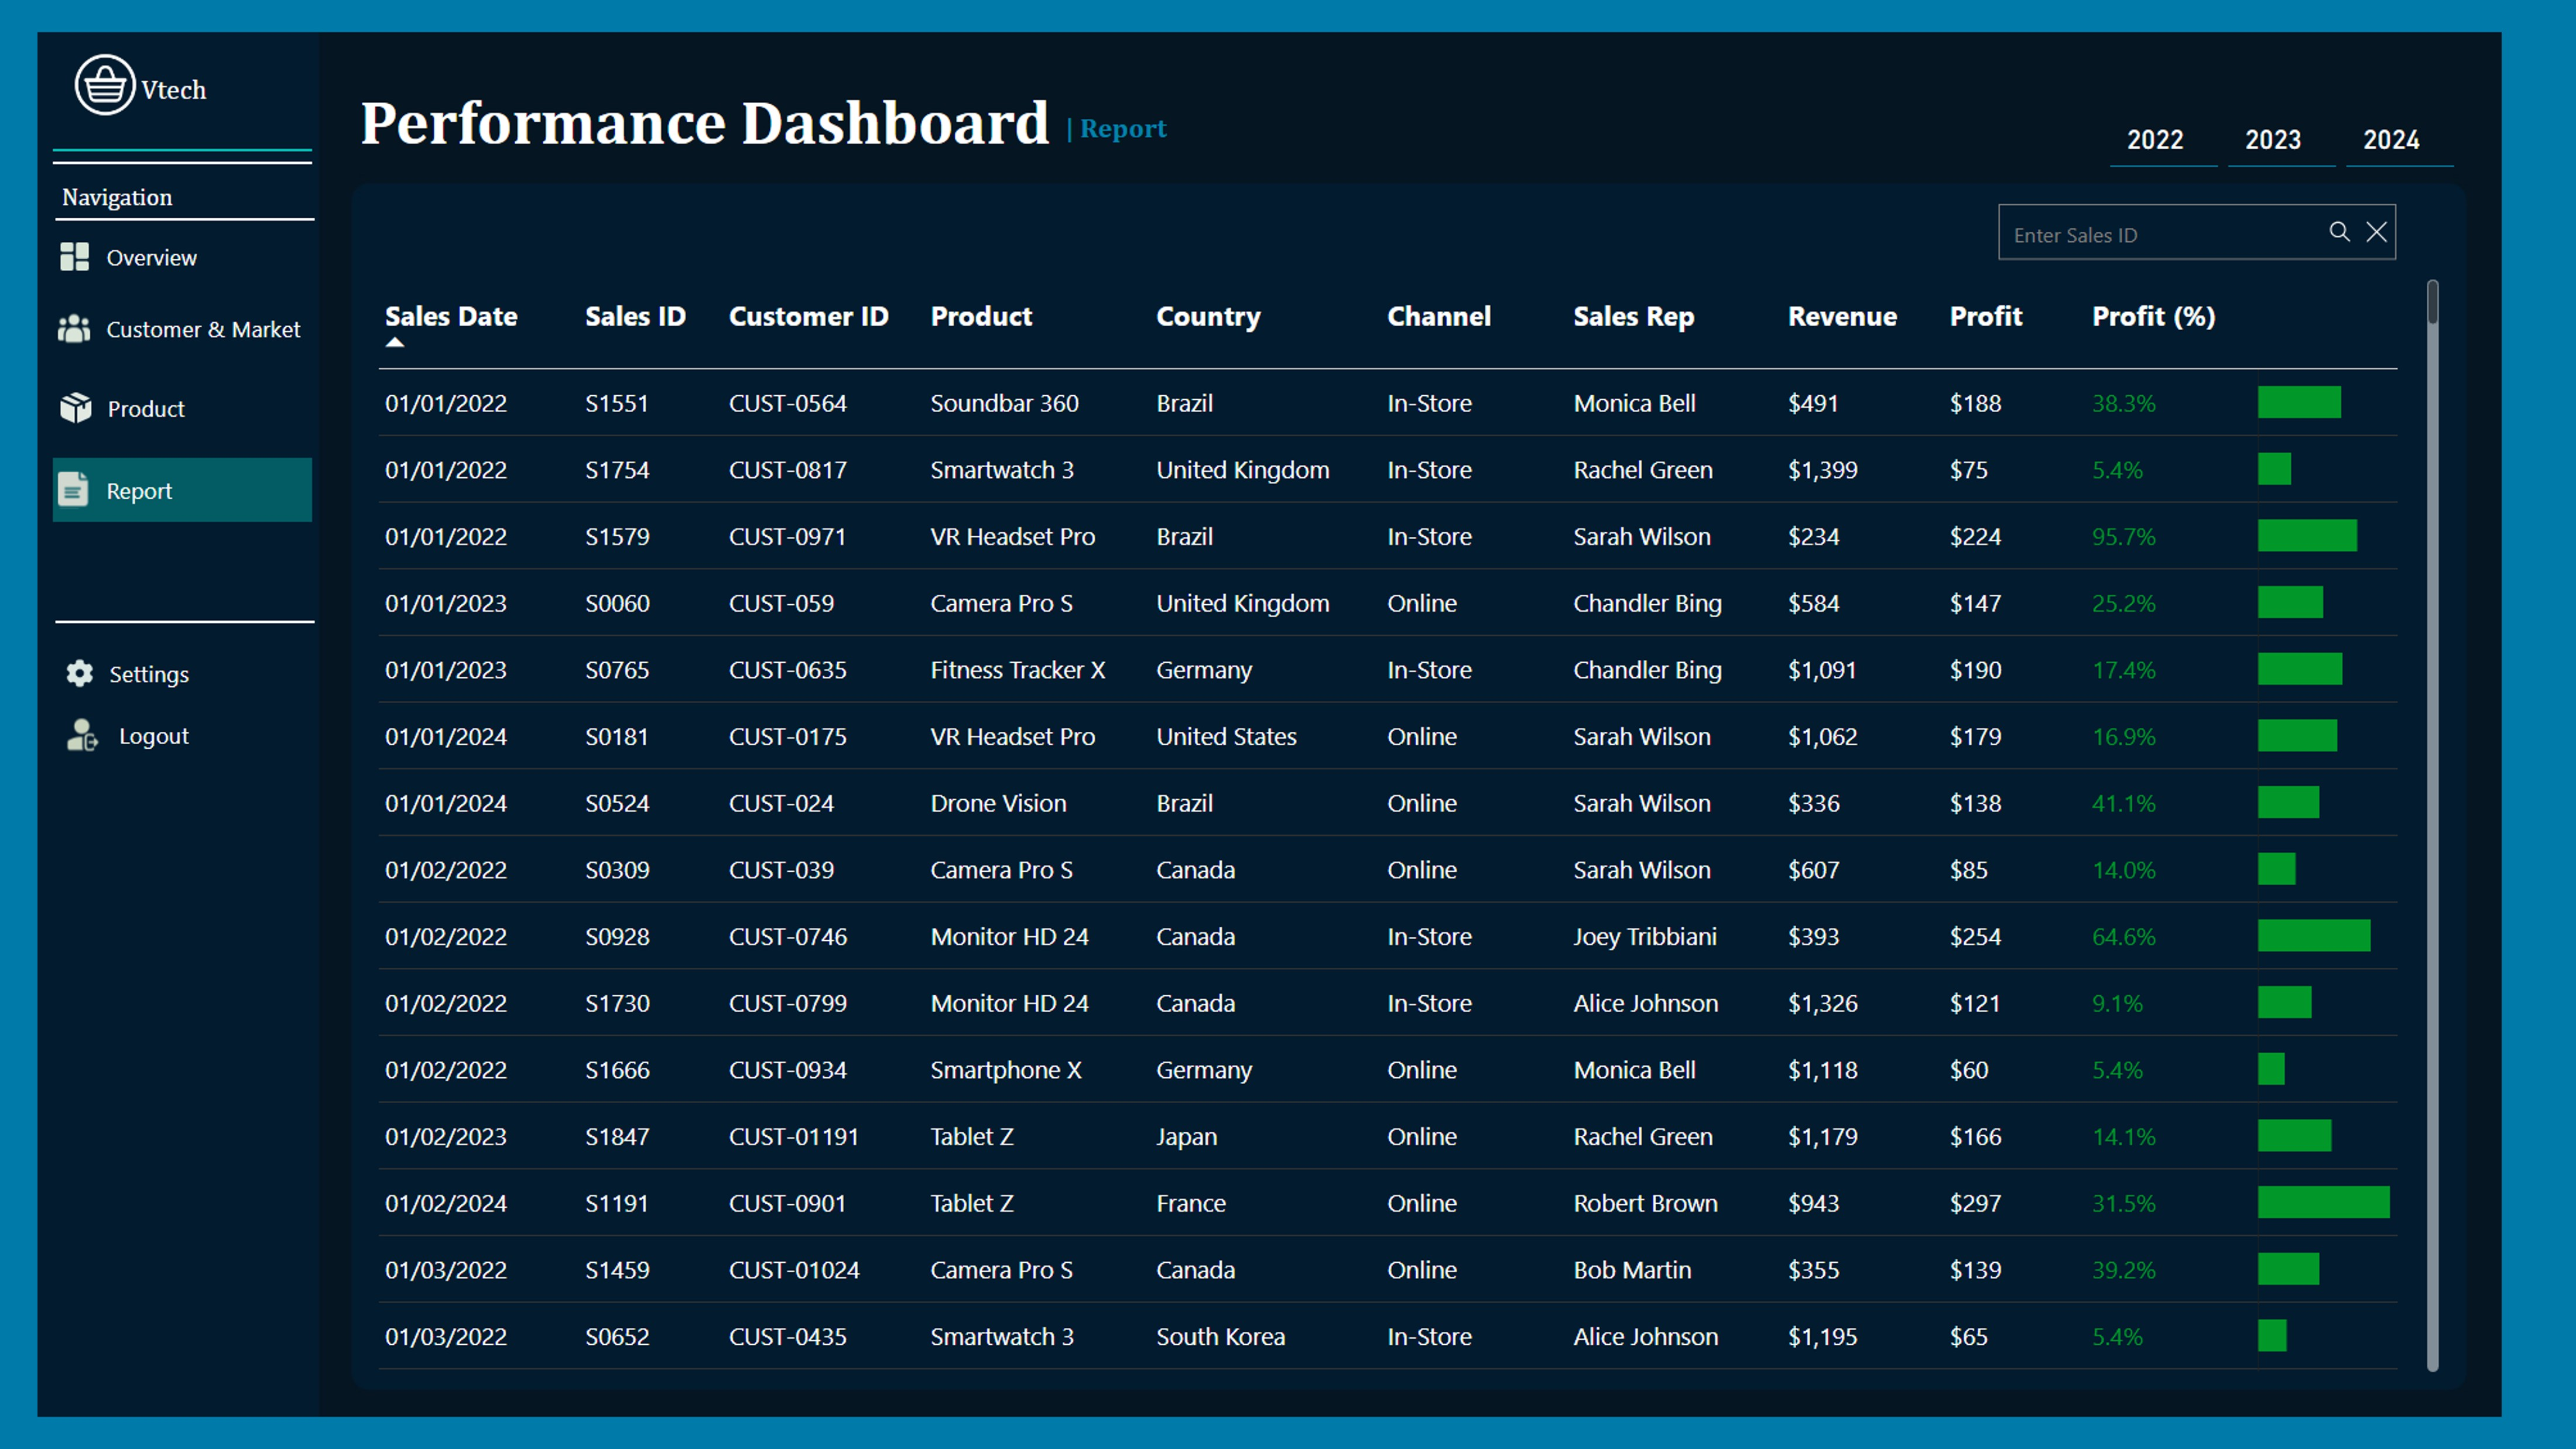

Layout of this report page (visuals, bound fields, positions):
{"tool":"powerbi","page":{"name":"Report","canvas":[1920,1080],"ordinal":3},"visuals":[{"type":"tableEx","fields":{"Values":["Calendar.FullDate","factsTable.Sales ID","dimCustomer.Customer ID","dimProduct.Product","dimCountry.Country","dimSalesChannel.Sales Channel","dimSalesRep.Sales Rep","_measures.Revenue","_measures.Profit","_measures.Profit Margin","_measures.Profit short"]},"box":[260,188,1616,862],"z":0},{"type":"textSearchSlicerF85E2E78BE4A4D7D9F99ED75B5D71C85","fields":{"fields":["factsTable.Sales ID"]},"box":[1518,124,330,64],"z":1000},{"type":"textbox","box":[246,36,552,84],"z":2000},{"type":"textbox","box":[796,56,394,42],"z":3000},{"type":"advancedSlicerVisual","fields":{"Values":["Calendar.Year"]},"box":[1610,54,278,56],"z":4000},{"type":"shape","box":[12,82.8,202,40],"z":5000},{"type":"actionButton","box":[14,149.6,202,50],"z":6000},{"type":"actionButton","box":[12,205.6,204,50],"z":7000},{"type":"actionButton","box":[10,267.6,204,50],"z":8000},{"type":"group","id":"g1","title":"Group 1","box":[2,0.8,204,82],"z":9000},{"type":"textbox","box":[14,111.6,130,48],"z":10000},{"type":"shape","box":[14,125.6,202,40],"z":11000},{"type":"shape","box":[14,440.4,202,40],"z":12000},{"type":"actionButton","box":[18,476.4,104,48],"z":13000},{"type":"actionButton","box":[18,524.4,104,48],"z":14000},{"type":"actionButton","box":[12,332,202,50],"z":15000},{"type":"shape","box":[12,72,202,40],"z":16000},{"type":"textbox","box":[76,26.8,130,42],"z":22000,"group":"g1"},{"type":"image","box":[2,0.8,102,82],"z":26004,"group":"g1"}]}

Visuals, with their boxes on the page's 1920x1080 design canvas (x1, y1, x2, y2). These are canvas units, not pixel positions in the 2576x1449 screenshot, which may show the page scaled, cropped or inside an application window:
tableEx - Calendar.FullDate x factsTable.Sales ID: box(260, 188, 1876, 1050)
textSearchSlicerF85E2E78BE4A4D7D9F99ED75B5D71C85 - factsTable.Sales ID: box(1518, 124, 1848, 188)
textbox: box(246, 36, 798, 120)
textbox: box(796, 56, 1190, 98)
advancedSlicerVisual - Calendar.Year: box(1610, 54, 1888, 110)
shape: box(12, 83, 214, 123)
actionButton: box(14, 150, 216, 200)
actionButton: box(12, 206, 216, 256)
actionButton: box(10, 268, 214, 318)
"Group 1" group: box(2, 1, 206, 83)
textbox: box(14, 112, 144, 160)
shape: box(14, 126, 216, 166)
shape: box(14, 440, 216, 480)
actionButton: box(18, 476, 122, 524)
actionButton: box(18, 524, 122, 572)
actionButton: box(12, 332, 214, 382)
shape: box(12, 72, 214, 112)
textbox: box(76, 27, 206, 69)
image: box(2, 1, 104, 83)
